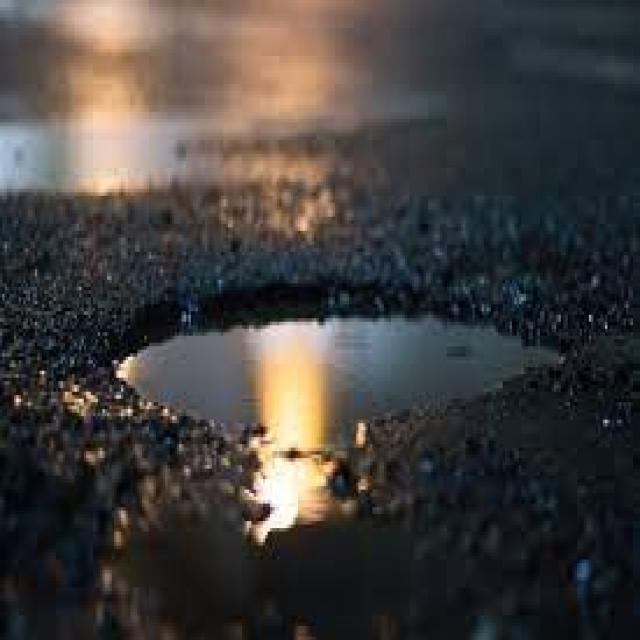Pothole: (119, 316, 522, 534)
